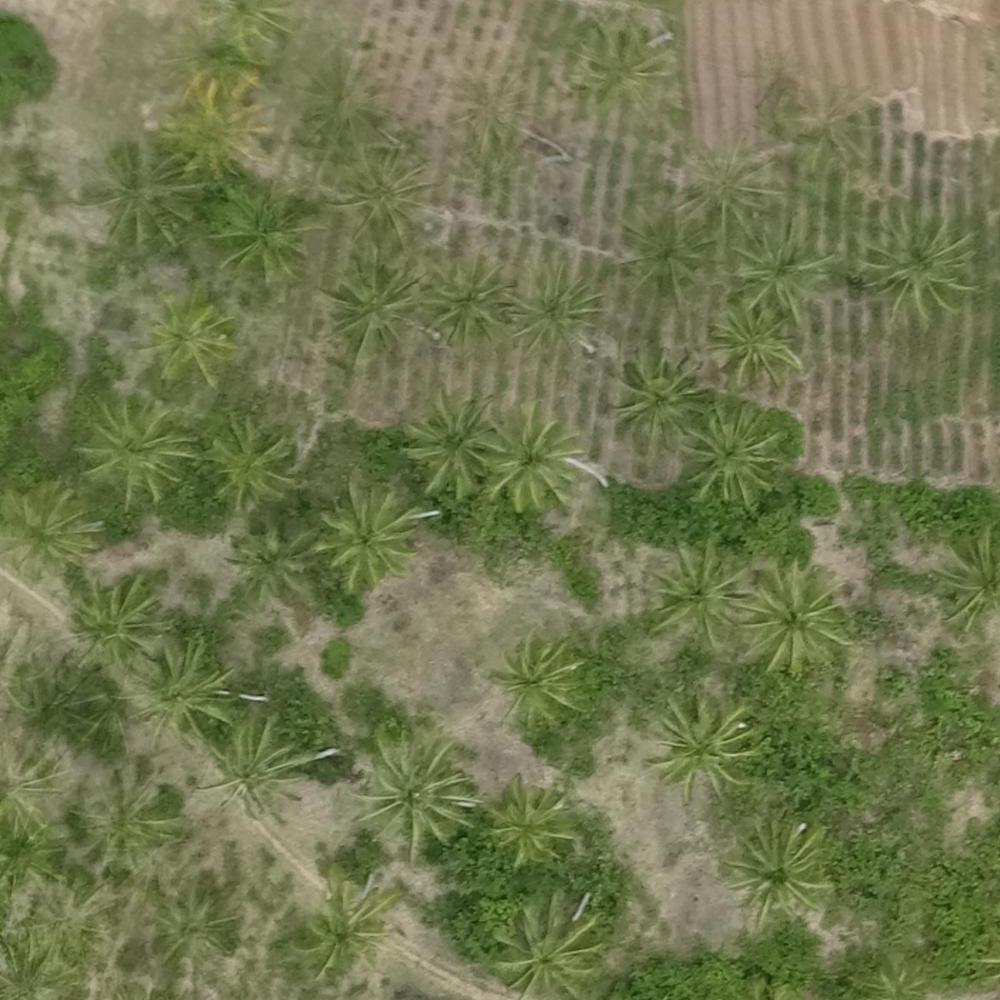Palm: (862, 201, 983, 321), (353, 736, 472, 854), (79, 132, 200, 243), (488, 899, 609, 998), (746, 566, 853, 675), (204, 183, 319, 284), (322, 142, 430, 248), (76, 397, 188, 499), (399, 385, 496, 501), (317, 479, 420, 588), (478, 407, 583, 511), (645, 538, 748, 644), (292, 49, 395, 154), (320, 260, 422, 366), (679, 402, 779, 510), (655, 691, 755, 796), (612, 348, 716, 448), (297, 874, 394, 980), (617, 198, 716, 301), (210, 715, 311, 815), (731, 818, 834, 914), (134, 640, 228, 745), (491, 634, 593, 726), (69, 574, 170, 665), (146, 290, 238, 389), (3, 482, 92, 580), (167, 78, 263, 168), (508, 263, 602, 352), (730, 223, 825, 310), (424, 252, 514, 343), (488, 776, 582, 861), (715, 308, 803, 388)
